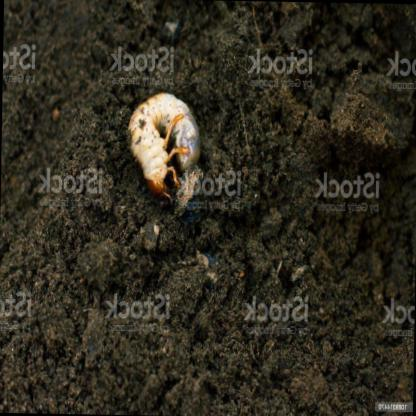root grubs: (128, 91, 202, 197)
